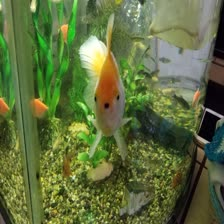Cuezo: (80, 13, 125, 164)
